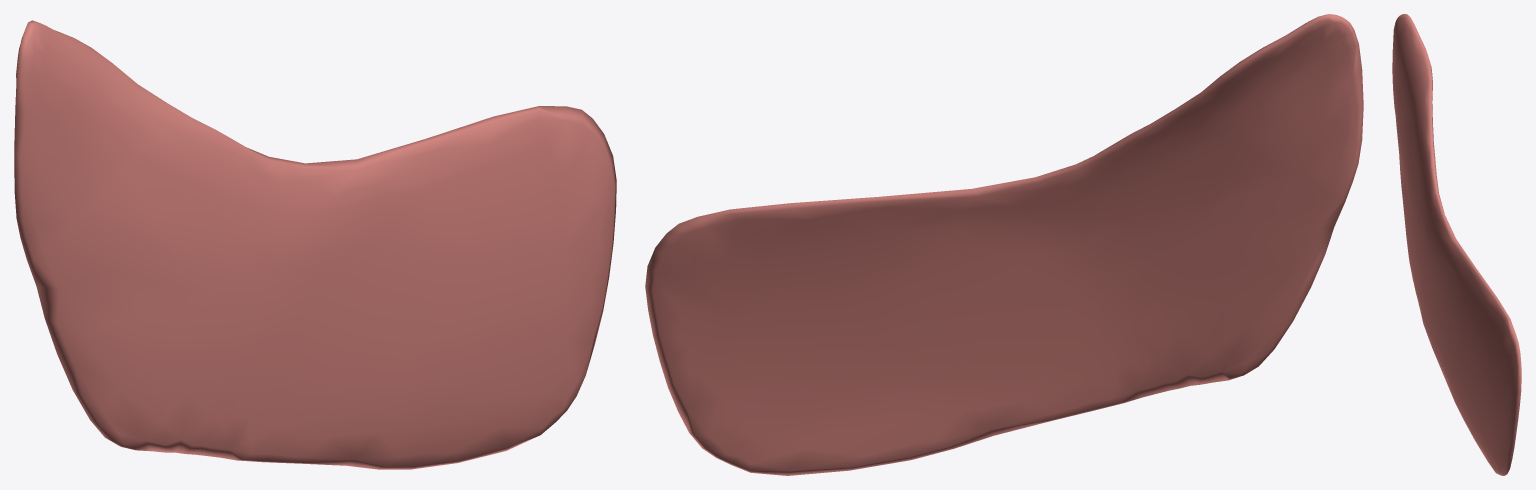
3 renders of one model, left to right at view 1: azimuth 30°, elevation 25°; view 2: azimuth 150°, elevation 25°; view 3: azimuth 270°, elevation 25°, orthographic. The views are drawn at different scales.
Visible parts, largest first — view 1: ZA_6938246785894c40; view 2: ZA_6938246785894c40; view 3: ZA_6938246785894c40.
Part boxes in pixels (x1,y1,x2,y2): ZA_6938246785894c40: [14, 20, 616, 469]; ZA_6938246785894c40: [645, 14, 1363, 475]; ZA_6938246785894c40: [1392, 14, 1521, 475].
Bounding box in the file's own units: 0.0327 × 0.0269 × 0.01.
